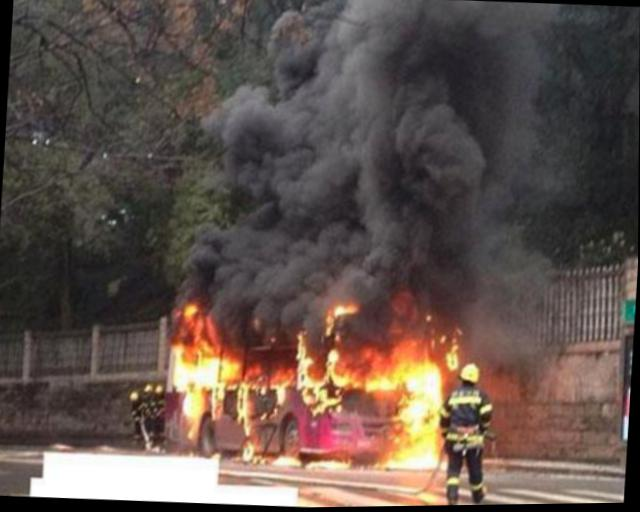fire: (388, 347, 457, 472), (327, 346, 400, 392), (171, 349, 241, 393), (302, 348, 330, 413), (180, 388, 212, 438), (182, 306, 216, 351), (271, 368, 295, 405), (329, 299, 361, 320), (239, 391, 252, 426), (241, 379, 269, 395)
